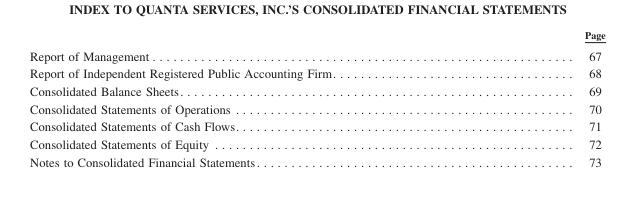table: (29, 28, 604, 168)
table column: (29, 28, 459, 168), (459, 28, 604, 168)
table column header: (29, 28, 604, 44)
table row: (29, 44, 604, 64), (29, 81, 604, 99), (29, 99, 604, 117), (29, 134, 604, 152), (29, 64, 604, 81), (29, 117, 604, 134), (29, 28, 604, 44), (29, 152, 604, 168)
